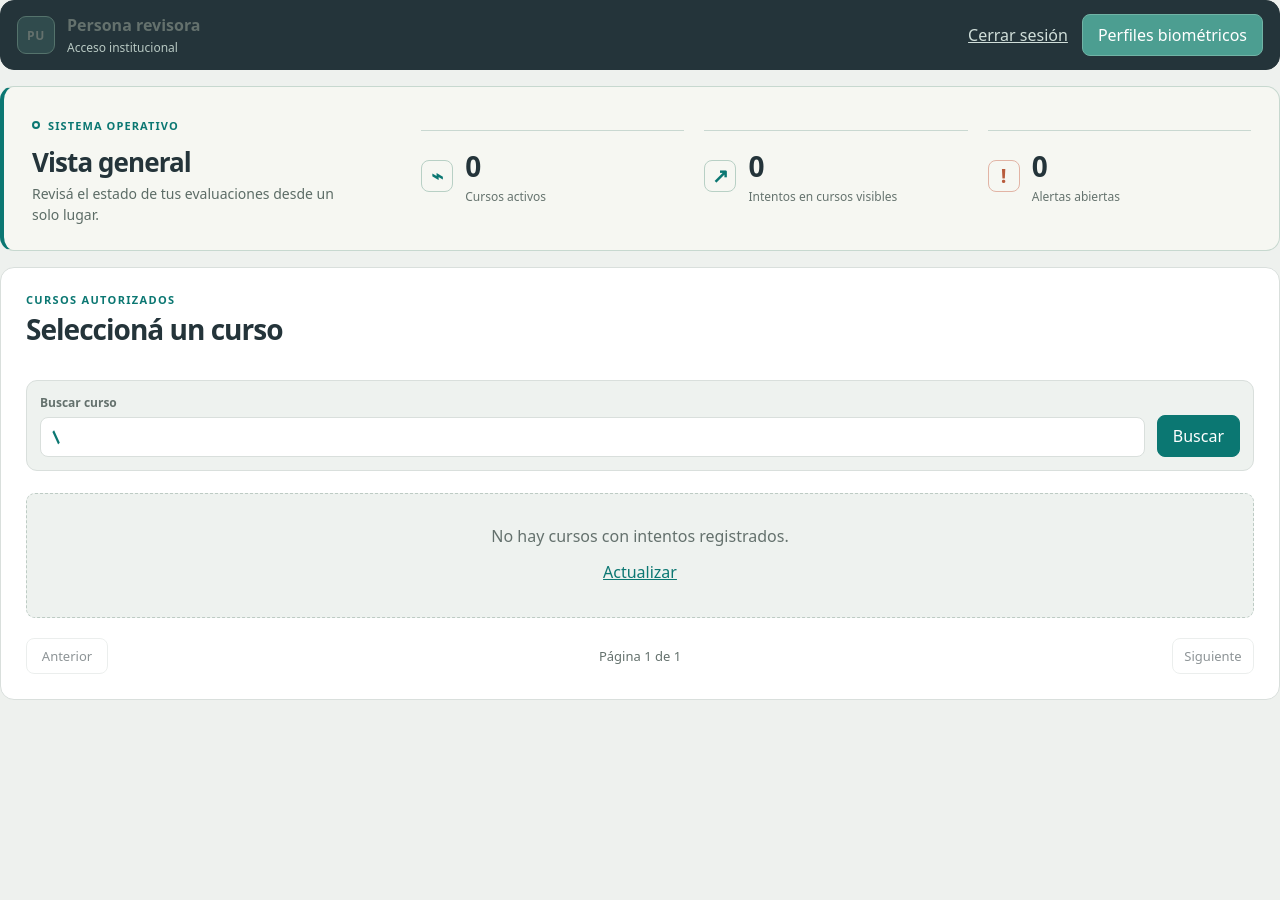
opens the biometric profiles section for institutional users
The image size is (1280, 900).
Click the button "Perfiles biométricos". click: (1172, 35)
box: [1082,14,1263,56]
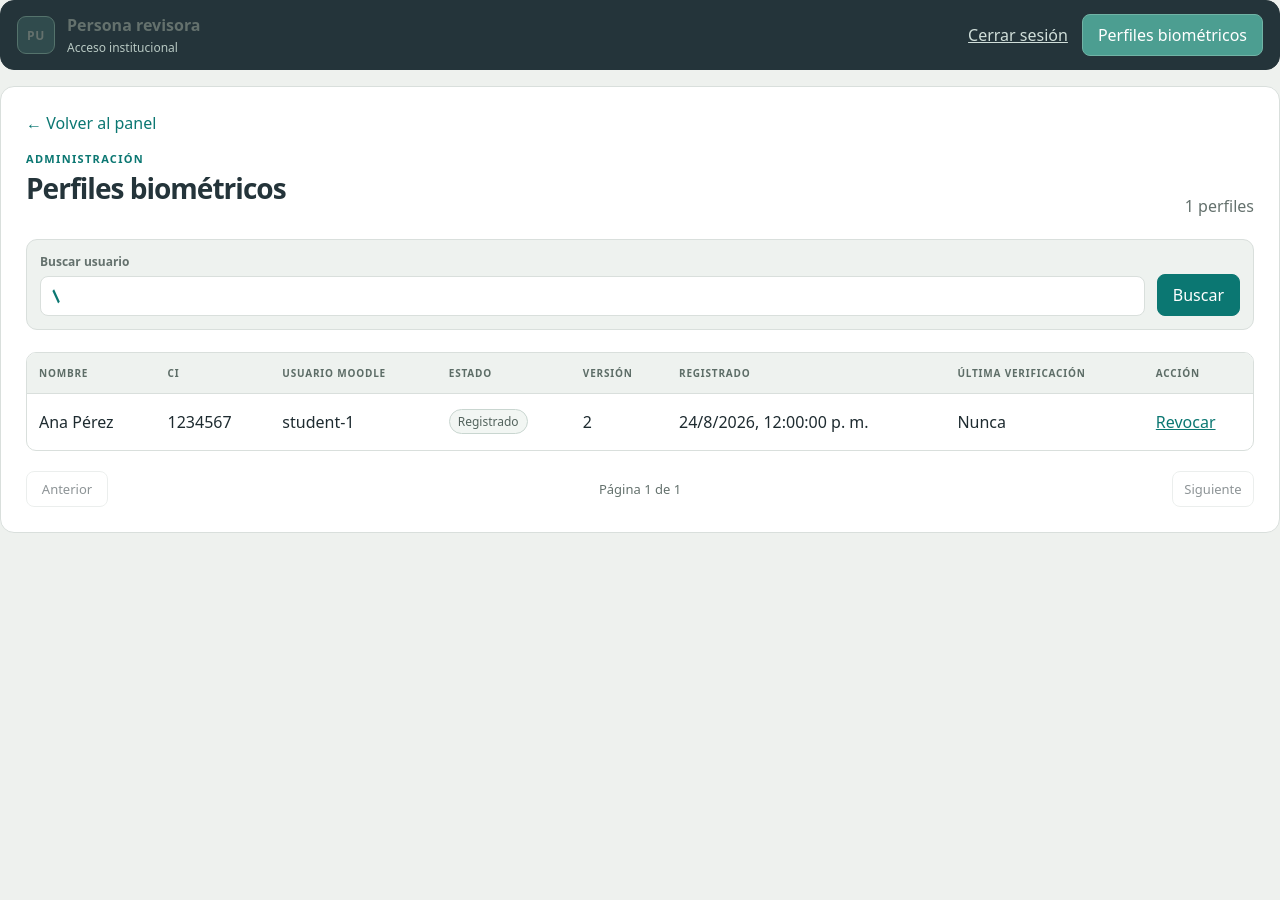
Expected: the text "student-1" is shown, [270,393,437,450]
Expected: the text "Ana Pérez" is shown, [27,393,156,450]
Expected: the text "1234567" is shown, [156,393,270,450]
